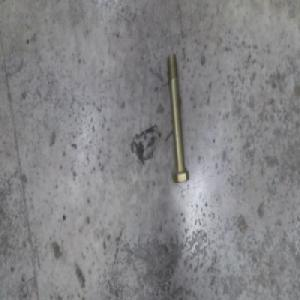Bolt: (164, 46, 190, 175)
